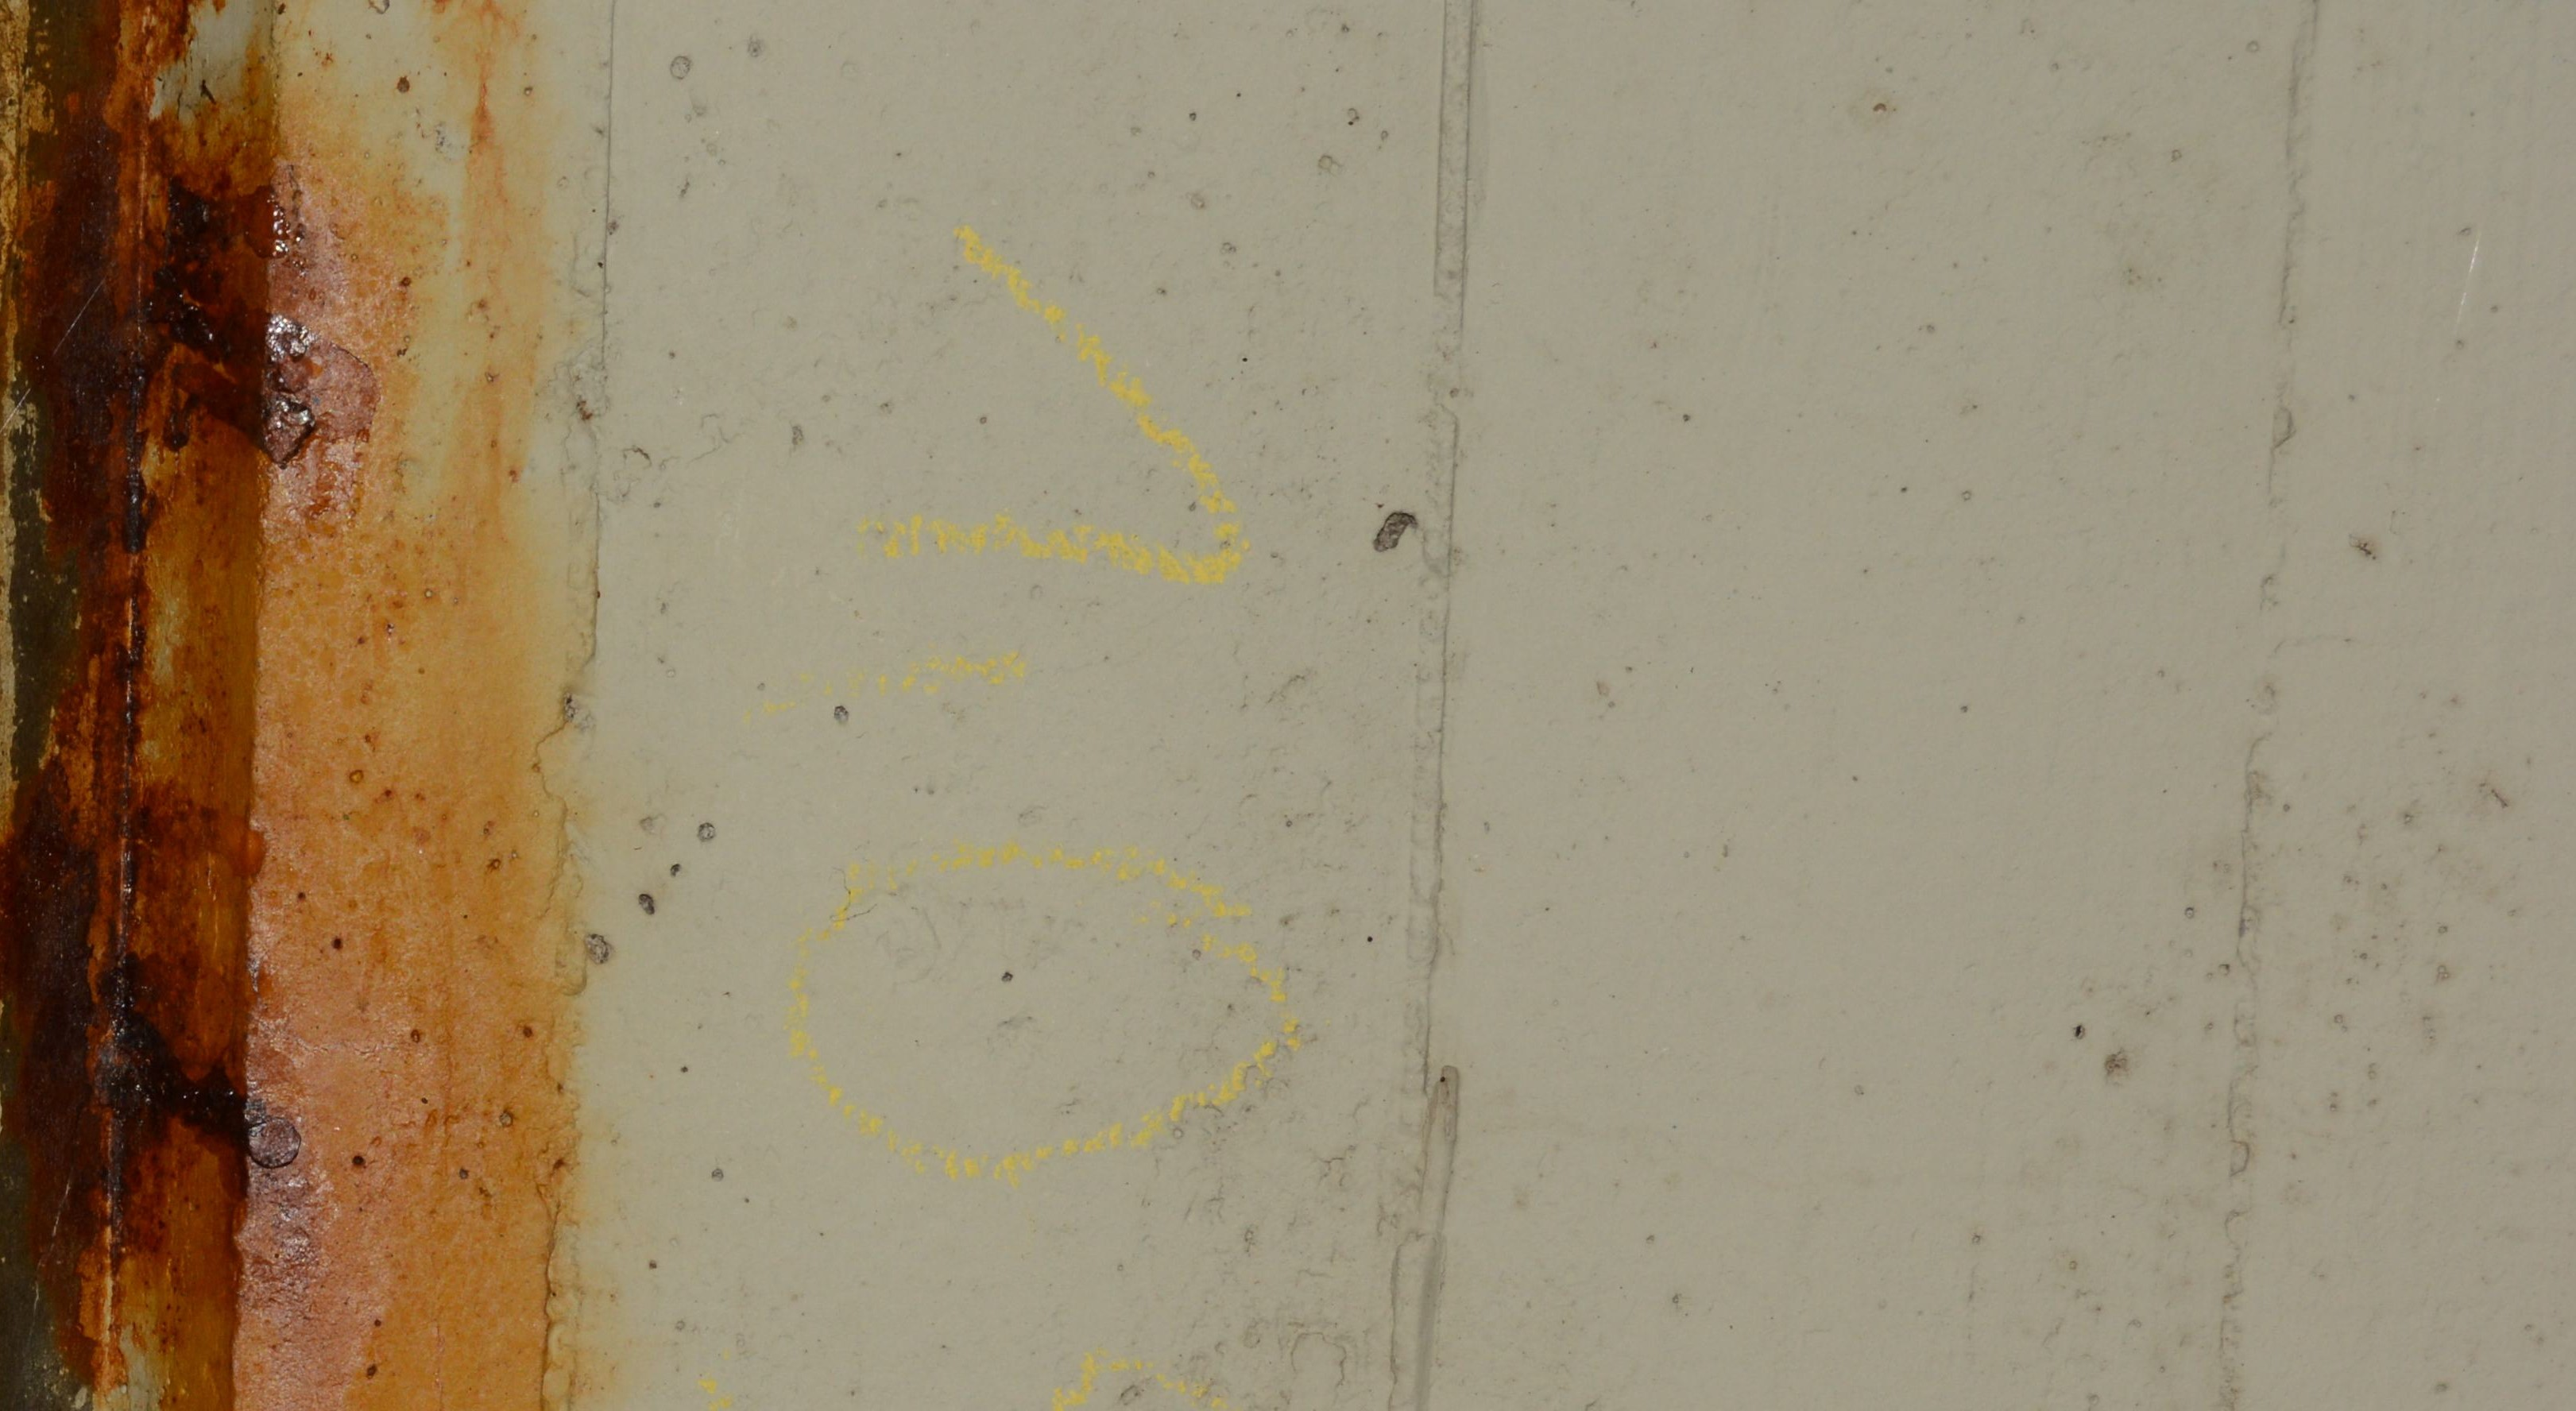Corrosion: (0, 0, 587, 1411)
Spalling: (1372, 511, 1417, 551)
